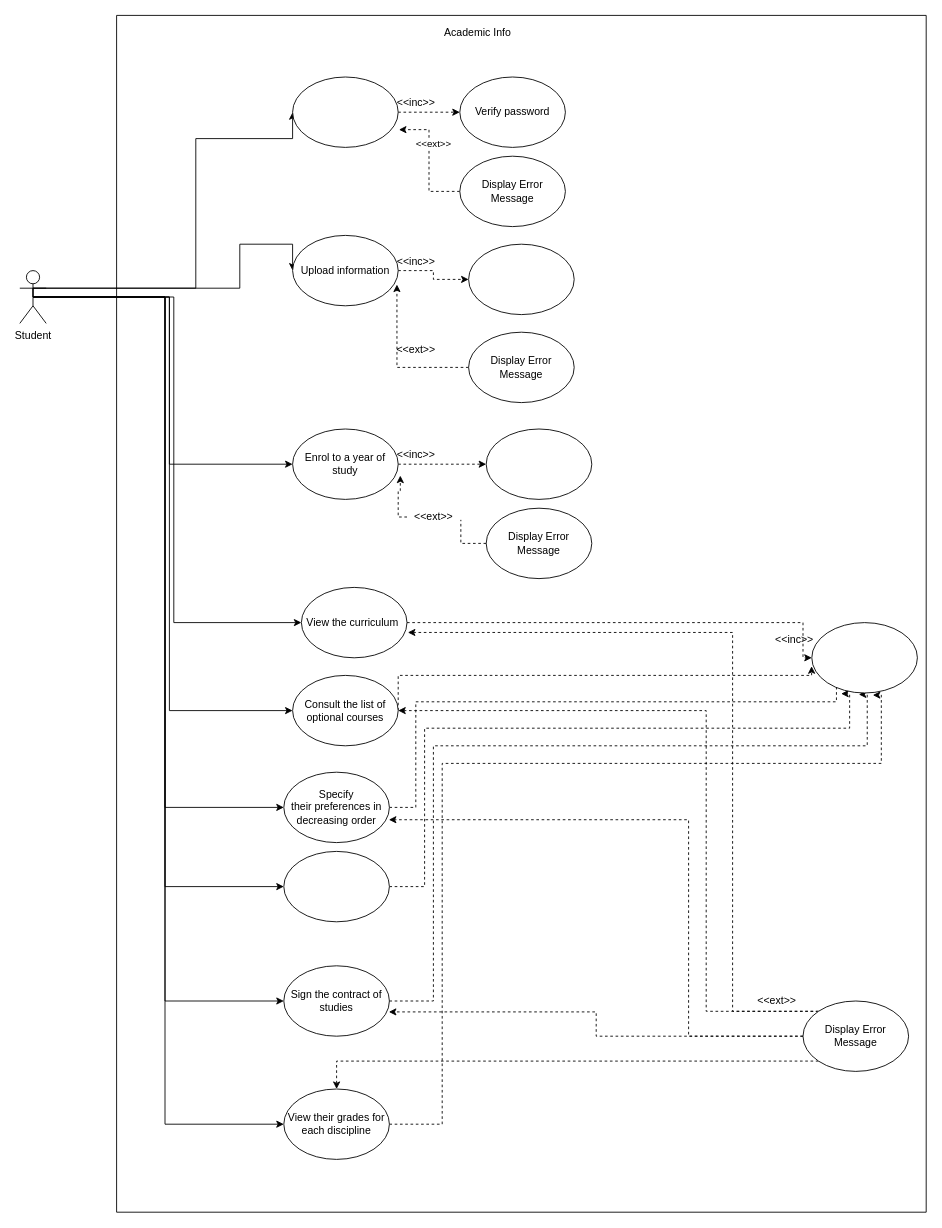
Some shapes in this 942 by 1228 pixel diagram are drawn without their labels. The shapes that lost their labels are listed below. From the top down, each one's centre as x and y in pixels, then its label:
the point at 345,111: Log In
the point at 521,279: Check if data is valid
the point at 538,463: Check if already enrolled in 2 years
the point at 864,657: Check if enrolled in at least 1 year
the point at 336,886: Get assigned to an optional discipline
